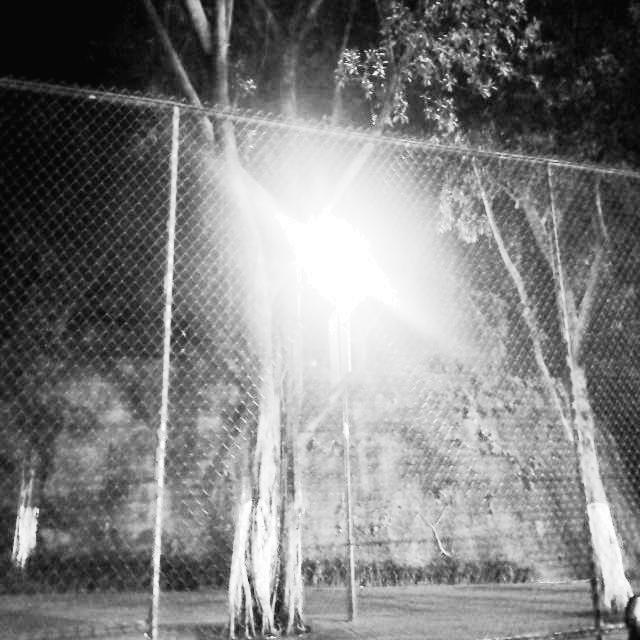Light: (319, 231, 364, 617)
Tree: (488, 33, 640, 622), (201, 0, 315, 638)
